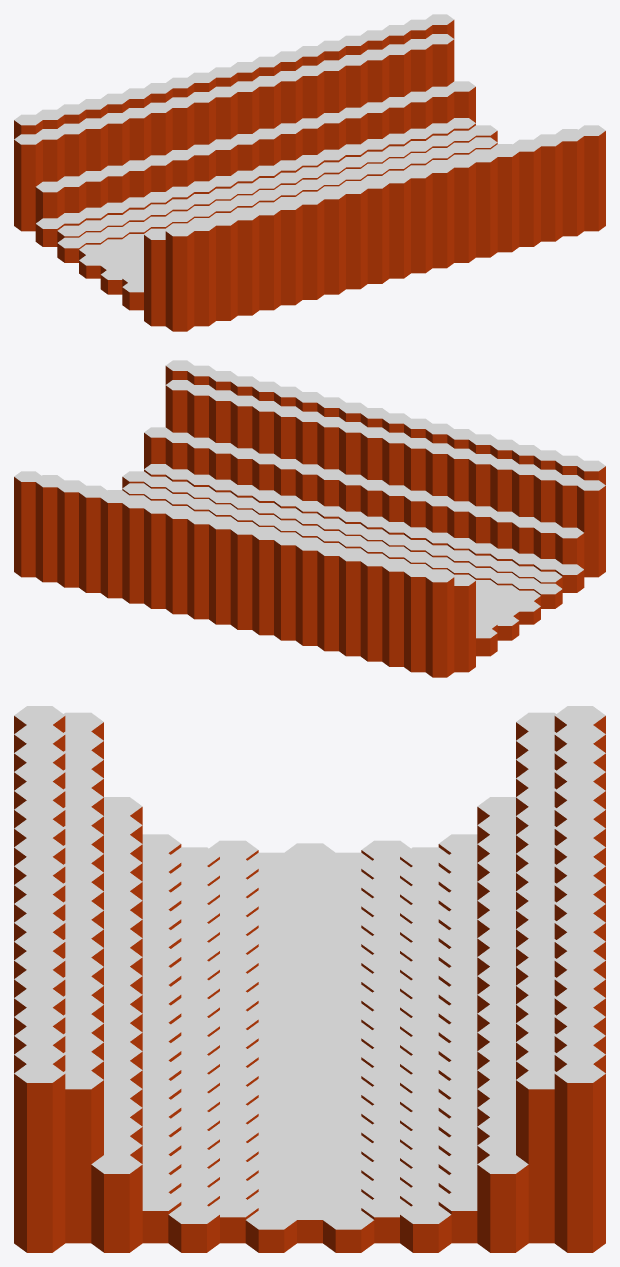
3 renders of one model, top to bottom at view 1: azimuth 30°, elevation 25°; view 2: azimuth 150°, elevation 25°; view 3: azimuth 270°, elevation 25°, orthographic. The views are drawn at different scales.
Parts seen in each view (by area): view 1: Cylinder.016, Cylinder.008, Cylinder.293, Cylinder.296, Cylinder.299, Cylinder.284, Cylinder.287, Cylinder.290, Cylinder.282, Cylinder.285, Cylinder.286, Cylinder.288 (+74 smaller); view 2: Cylinder.009, Cylinder.015, Cylinder.161, Cylinder.164, Cylinder.167, Cylinder.152, Cylinder.155, Cylinder.158, Cylinder.150, Cylinder.153, Cylinder.154, Cylinder.156 (+74 smaller); view 3: Cylinder.168, Cylinder.300, Cylinder.149, Cylinder.281, Cylinder.035, Cylinder.130, Cylinder.092, Cylinder.243, Cylinder.054, Cylinder.205, Cylinder.111, Cylinder.262 (+250 smaller).
Part boxes in pixels (box(x1,y1,x2,y2)): Cylinder.016: box(165, 225, 194, 331); Cylinder.008: box(14, 134, 42, 231); Cylinder.293: box(425, 162, 454, 268); Cylinder.296: box(491, 146, 519, 252); Cylinder.299: box(556, 130, 584, 236); Cylinder.284: box(231, 210, 259, 315); Cylinder.287: box(295, 194, 324, 299); Cylinder.290: box(361, 178, 389, 283); Cylinder.282: box(187, 220, 215, 326); Cylinder.285: box(252, 204, 280, 310); Cylinder.286: box(274, 199, 302, 305); Cylinder.288: box(317, 188, 345, 294); Cylinder.009: box(425, 571, 454, 677); Cylinder.015: box(577, 480, 605, 577); Cylinder.161: box(165, 508, 194, 614); Cylinder.164: box(100, 492, 128, 598); Cylinder.167: box(35, 476, 63, 582); Cylinder.152: box(360, 556, 388, 661); Cylinder.155: box(295, 540, 324, 645); Cylinder.158: box(230, 524, 258, 629); Cylinder.150: box(404, 566, 432, 672); Cylinder.153: box(339, 550, 367, 656); Cylinder.154: box(317, 545, 345, 651); Cylinder.156: box(274, 534, 302, 640); Cylinder.168: box(554, 1064, 605, 1252); Cylinder.300: box(14, 1064, 65, 1252); Cylinder.149: box(516, 1070, 555, 1243); Cylinder.281: box(64, 1070, 103, 1243); Cylinder.035: box(91, 1155, 142, 1252); Cylinder.130: box(477, 1155, 528, 1252); Cylinder.092: box(400, 1205, 451, 1252); Cylinder.243: box(168, 1205, 219, 1252); Cylinder.054: box(323, 1210, 374, 1252); Cylinder.205: box(245, 1210, 296, 1252); Cylinder.111: box(438, 1192, 477, 1243); Cylinder.262: box(142, 1192, 181, 1243).
Size of the model in its own units: 35.51 by 7.28 by 23.
